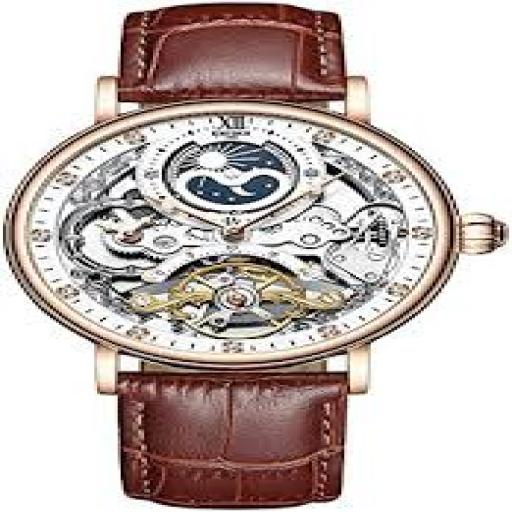KolSaati: (3, 32, 512, 512)
